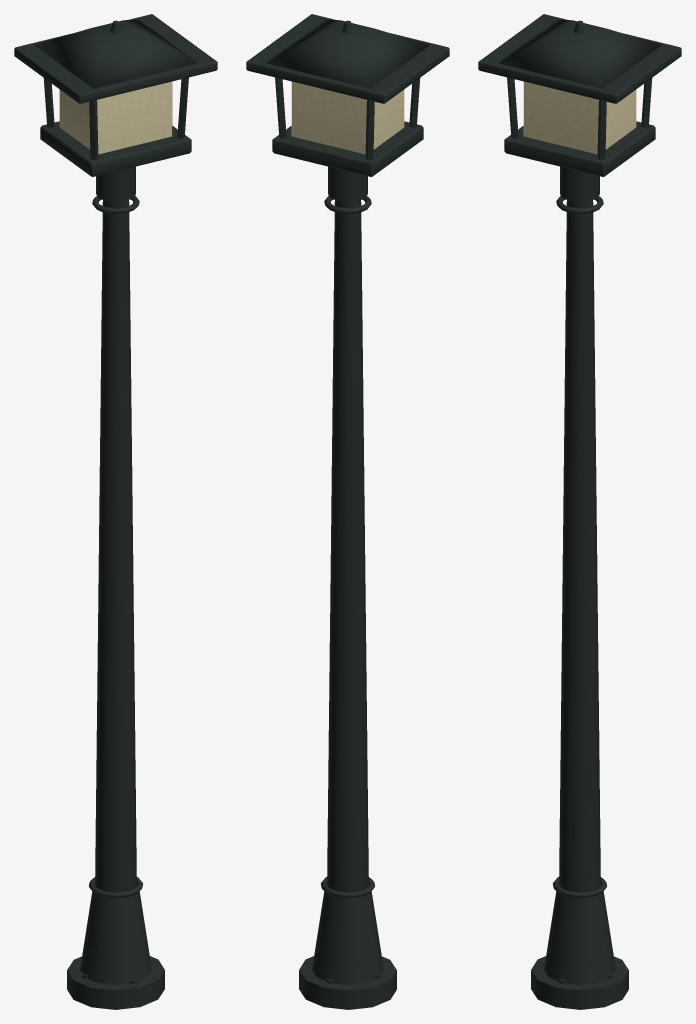
The model's file is path-lamp-victorian-crafted.glb.
3 views of the same model, side by side, from view 1: azimuth 30°, elevation 25°; view 2: azimuth 150°, elevation 25°; view 3: azimuth 330°, elevation 25° (orthographic).
Visible parts, largest first — view 1: path-lamp-victorian crafted; view 2: path-lamp-victorian crafted; view 3: path-lamp-victorian crafted.
Boxes of the visible parts, box(x1,y1,x2,y2) form: path-lamp-victorian crafted: box(14, 14, 217, 1009); path-lamp-victorian crafted: box(246, 14, 449, 1009); path-lamp-victorian crafted: box(478, 14, 681, 1009).
Bounding box in the file's own units: 0.6705 × 4.45 × 0.5486.
1 material, 1 textured.
